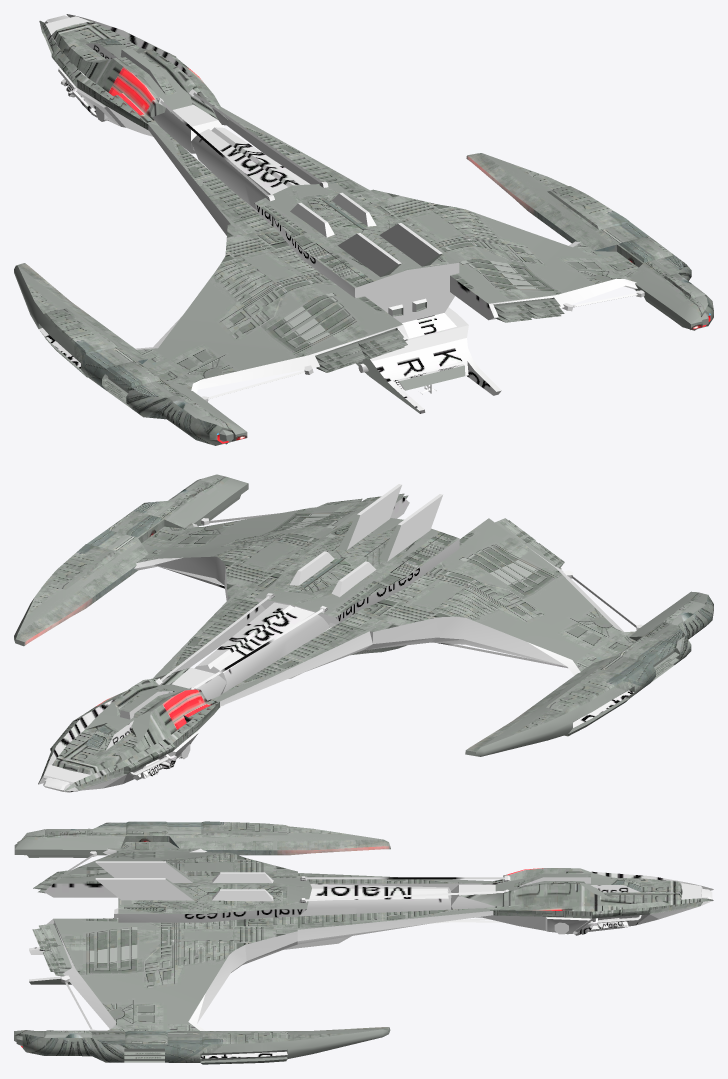
Rendered from Kling_Raptor.fbx.
The picture shows the model from 3 angles, top to bottom: view 1: azimuth 30°, elevation 25°; view 2: azimuth 150°, elevation 25°; view 3: azimuth 270°, elevation 25°; orthographic projection. The views are drawn at different scales.
Visible parts, largest first — view 1: Kling_Raptor; view 2: Kling_Raptor; view 3: Kling_Raptor.
Boxes of the visible parts, box(x1,y1,x2,y2) form: Kling_Raptor: box(14, 14, 713, 445); Kling_Raptor: box(14, 474, 713, 792); Kling_Raptor: box(14, 821, 713, 1064).
Bounding box in the file's own units: 113 × 24.92 × 148.
1 material, 1 textured.
